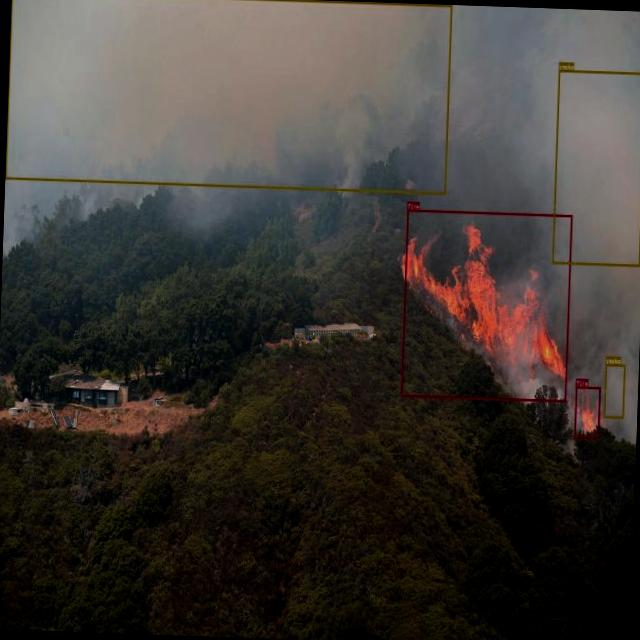fire: (400, 208, 571, 402), (574, 386, 600, 438)
smoke: (5, 0, 452, 193), (551, 69, 640, 266), (602, 363, 624, 418)
